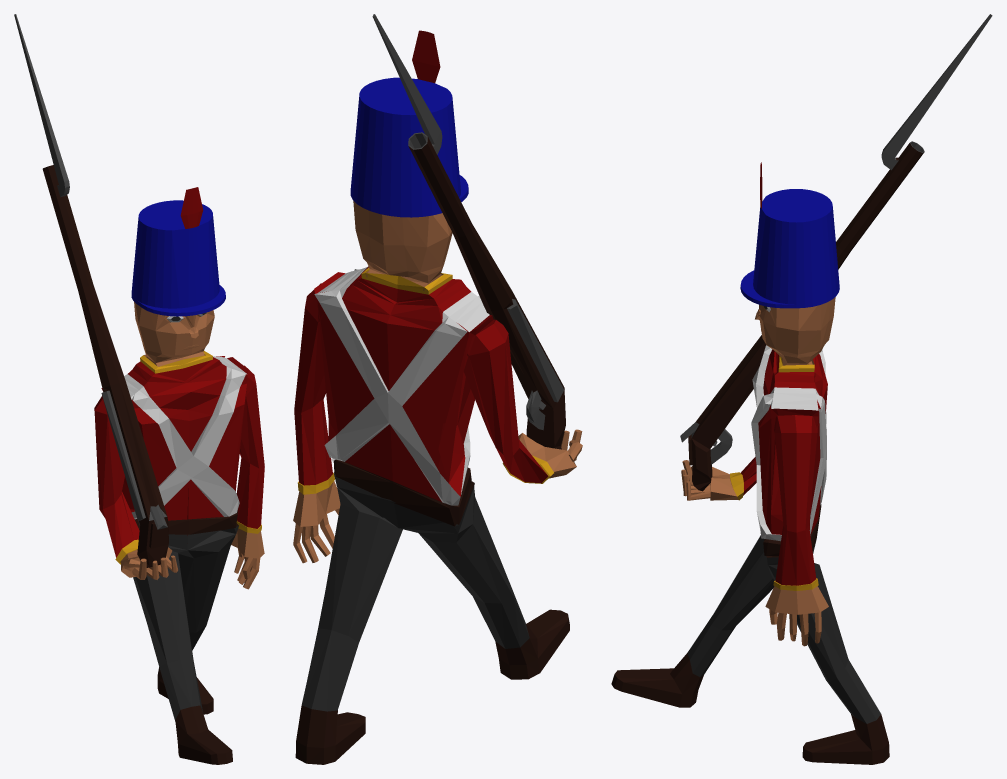
The model's file is Infantry_000020.obj.
The picture shows the model from 3 angles, left to right: view 1: azimuth 30°, elevation 25°; view 2: azimuth 150°, elevation 25°; view 3: azimuth 270°, elevation 25°; orthographic projection. The views are drawn at different scales.
Visible parts, largest first — view 1: {Man}_Circle, {Mesket}_Cube.001; view 2: {Man}_Circle, {Mesket}_Cube.001; view 3: {Man}_Circle, {Mesket}_Cube.001.
Boxes of the visible parts, box(x1,y1,x2,y2) form: {Man}_Circle: box(94, 187, 264, 764); {Mesket}_Cube.001: box(14, 14, 168, 567); {Man}_Circle: box(293, 30, 582, 764); {Mesket}_Cube.001: box(372, 14, 565, 449); {Man}_Circle: box(611, 162, 889, 764); {Mesket}_Cube.001: box(680, 14, 992, 491).
Bounding box in the file's own units: 5.63 × 19.36 × 9.68.
